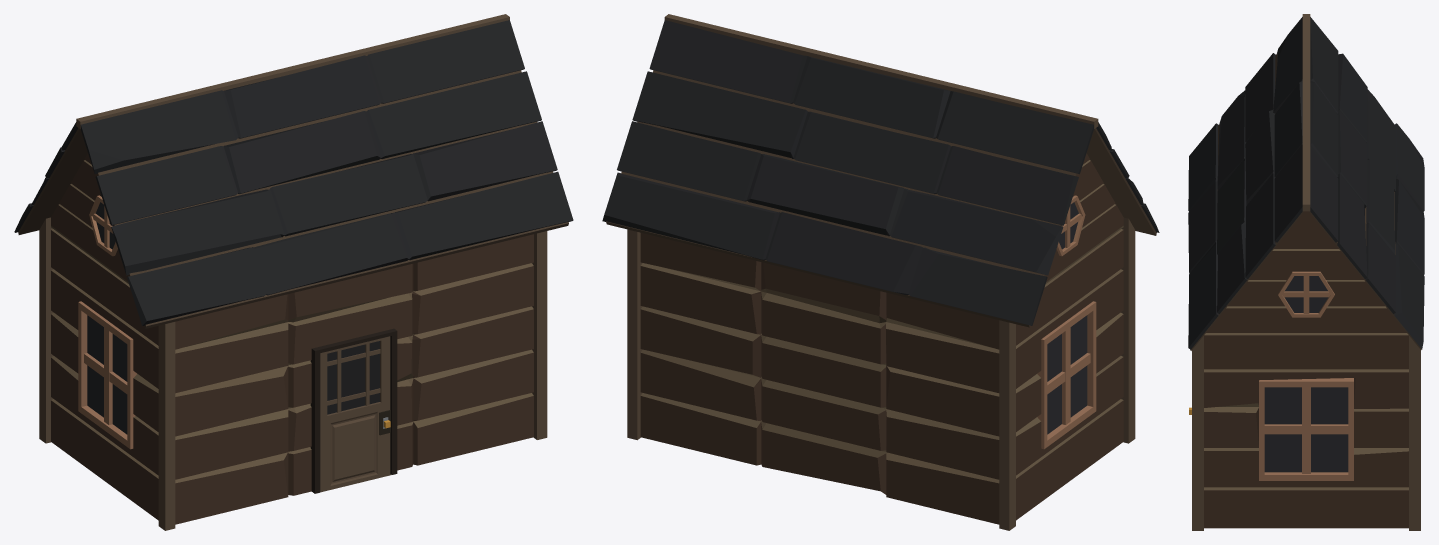
The model's file is SM_House_01_A.gltf.
3 views of the same model, side by side, from view 1: azimuth 30°, elevation 25°; view 2: azimuth 150°, elevation 25°; view 3: azimuth 270°, elevation 25° (orthographic). The views are drawn at different scales.
Visible parts, largest first — view 1: House_01_A, HouseDoor_01_A; view 2: House_01_A; view 3: House_01_A.
Boxes of the visible parts, box(x1,y1,x2,y2) form: House_01_A: box(14, 14, 573, 530); HouseDoor_01_A: box(320, 336, 391, 492); House_01_A: box(602, 14, 1159, 530); House_01_A: box(1188, 14, 1424, 530).
Size of the model in its own units: 2.08 by 1.72 by 1.09.
